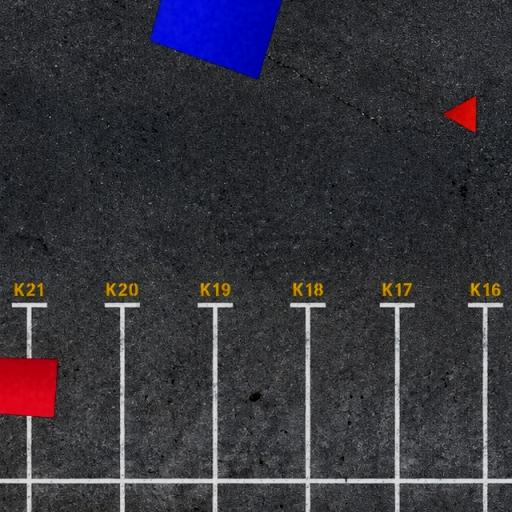BLUE_SQUARE: (150, 0, 292, 80)
RED_SQUARE: (0, 357, 58, 418)
